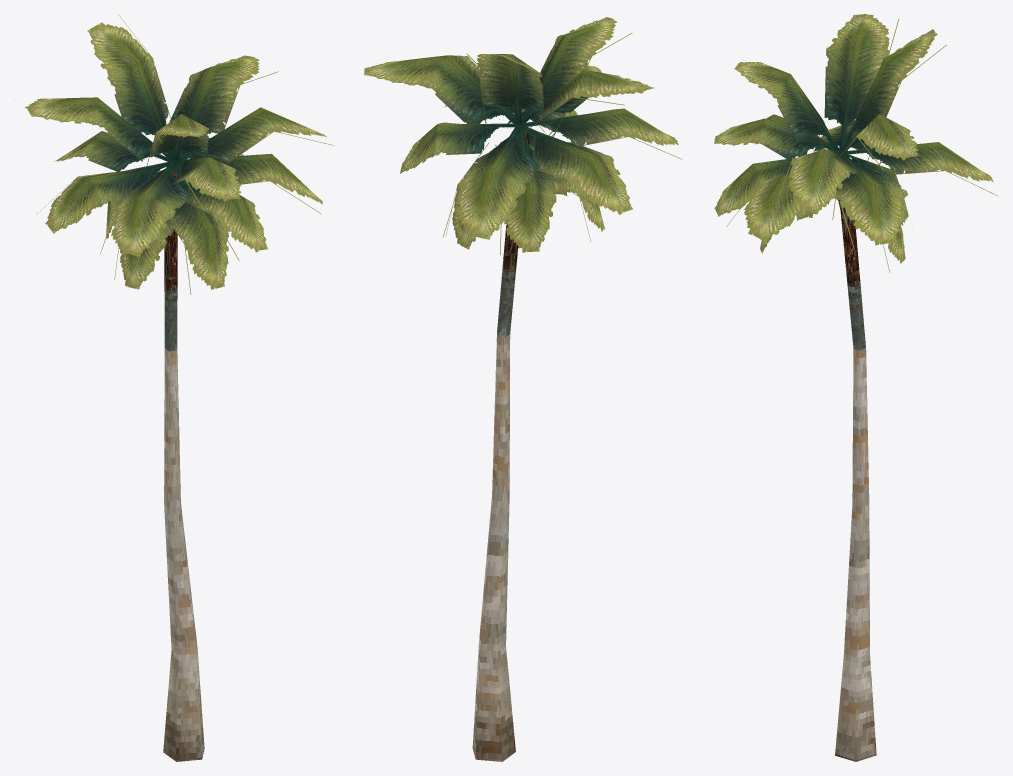
The model's file is stage-sanf-p2-64.glb.
3 renders of one model, left to right at view 1: azimuth 30°, elevation 25°; view 2: azimuth 150°, elevation 25°; view 3: azimuth 270°, elevation 25°, orthographic. The views are drawn at different scales.
Bounding box in the file's own units: 9.76 × 23.98 × 8.95.
1 material, 1 textured.
